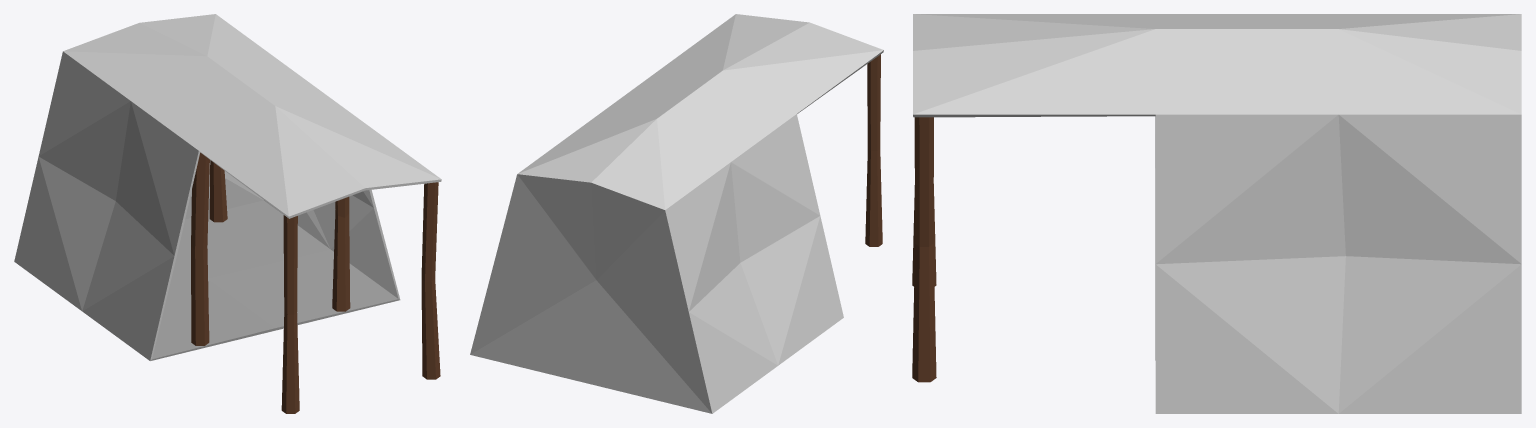
Rendered from Tent_4_White.fbx.
3 views of the same model, side by side, from view 1: azimuth 30°, elevation 25°; view 2: azimuth 150°, elevation 25°; view 3: azimuth 270°, elevation 25° (orthographic). The views are drawn at different scales.
Visible parts, largest first — view 1: Tent_4_White_Part_2, Tent_4_White_Part_3, Tent_4_White_Part_1, Tent_4_White_Part_4, Tent_4_White_Part_8, Tent_4_White_Part_6, Tent_4_White_Part_7, Tent_4_White_Part_9, Tent_4_White_Part_11, Tent_4_White_Part_5; view 2: Tent_4_White_Part_5, Tent_4_White_Part_2, Tent_4_White_Part_3, Tent_4_White_Part_7; view 3: Tent_4_White_Part_4, Tent_4_White_Part_2, Tent_4_White_Part_6.
Boxes of the visible parts, bbox=[...] form: Tent_4_White_Part_2: bbox=[63, 14, 441, 218]; Tent_4_White_Part_3: bbox=[14, 51, 200, 360]; Tent_4_White_Part_1: bbox=[151, 200, 399, 360]; Tent_4_White_Part_4: bbox=[264, 190, 400, 299]; Tent_4_White_Part_8: bbox=[191, 152, 209, 345]; Tent_4_White_Part_6: bbox=[421, 182, 440, 379]; Tent_4_White_Part_7: bbox=[281, 215, 299, 413]; Tent_4_White_Part_9: bbox=[332, 196, 350, 311]; Tent_4_White_Part_11: bbox=[209, 160, 227, 222]; Tent_4_White_Part_5: bbox=[185, 160, 263, 219]; Tent_4_White_Part_5: bbox=[470, 174, 712, 413]; Tent_4_White_Part_2: bbox=[517, 14, 883, 209]; Tent_4_White_Part_3: bbox=[665, 114, 843, 413]; Tent_4_White_Part_7: bbox=[865, 54, 882, 246]; Tent_4_White_Part_4: bbox=[1155, 114, 1521, 413]; Tent_4_White_Part_2: bbox=[913, 14, 1521, 117]; Tent_4_White_Part_6: bbox=[912, 117, 936, 382].
Bounding box in the file's own units: 320 × 274 × 501.
